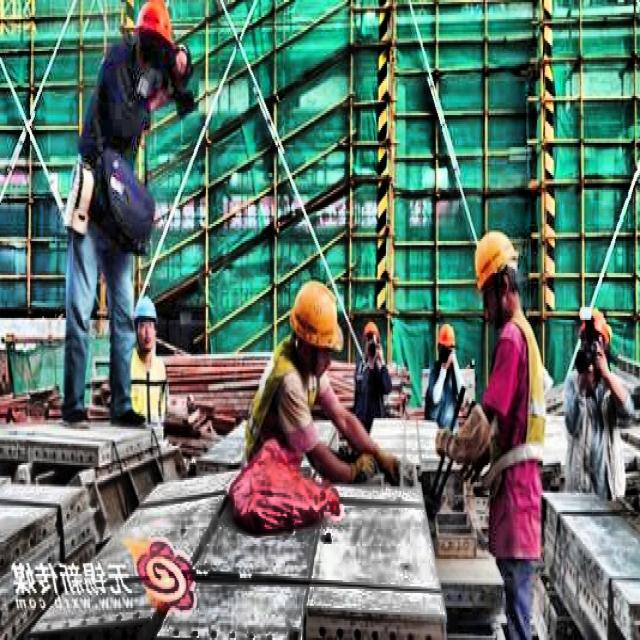helmet: (285, 284, 343, 367), (474, 232, 522, 322), (132, 2, 175, 83), (580, 310, 611, 380), (133, 299, 158, 350), (436, 324, 458, 362), (363, 322, 381, 362)
